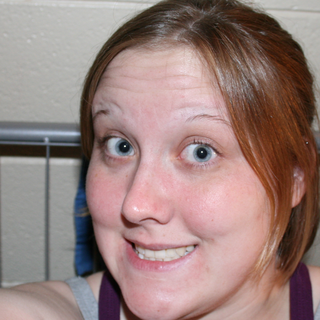eye: (172, 134, 226, 171), (97, 129, 145, 164)
